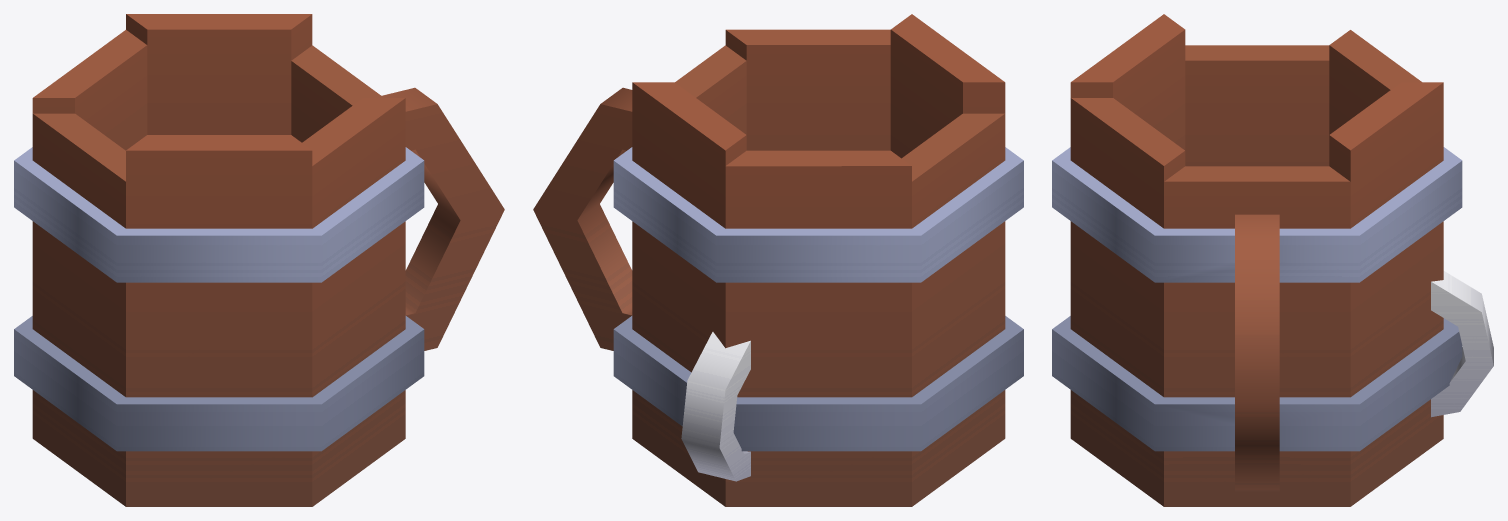
The model's file is food.glb.
3 renders of one model, left to right at view 1: azimuth 30°, elevation 25°; view 2: azimuth 150°, elevation 25°; view 3: azimuth 270°, elevation 25°, orthographic.
Parts seen in each view (by area): view 1: mug; view 2: mug, cup-coffee; view 3: mug, cup-coffee.
Boxes of the visible parts, x1,y1,x2,y2 form: mug: (14, 14, 504, 506); mug: (533, 14, 1023, 506); cup-coffee: (681, 332, 750, 481); mug: (1052, 14, 1462, 506); cup-coffee: (1431, 271, 1493, 417).
Bounding box in the file's own units: 0.3437 × 0.2734 × 0.307.
1 material, 1 textured.
